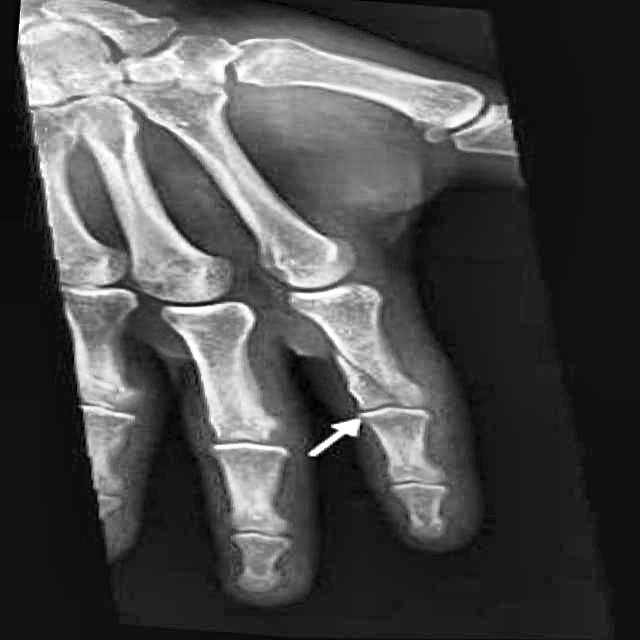Oblique Displaced: (327, 333, 443, 437)
